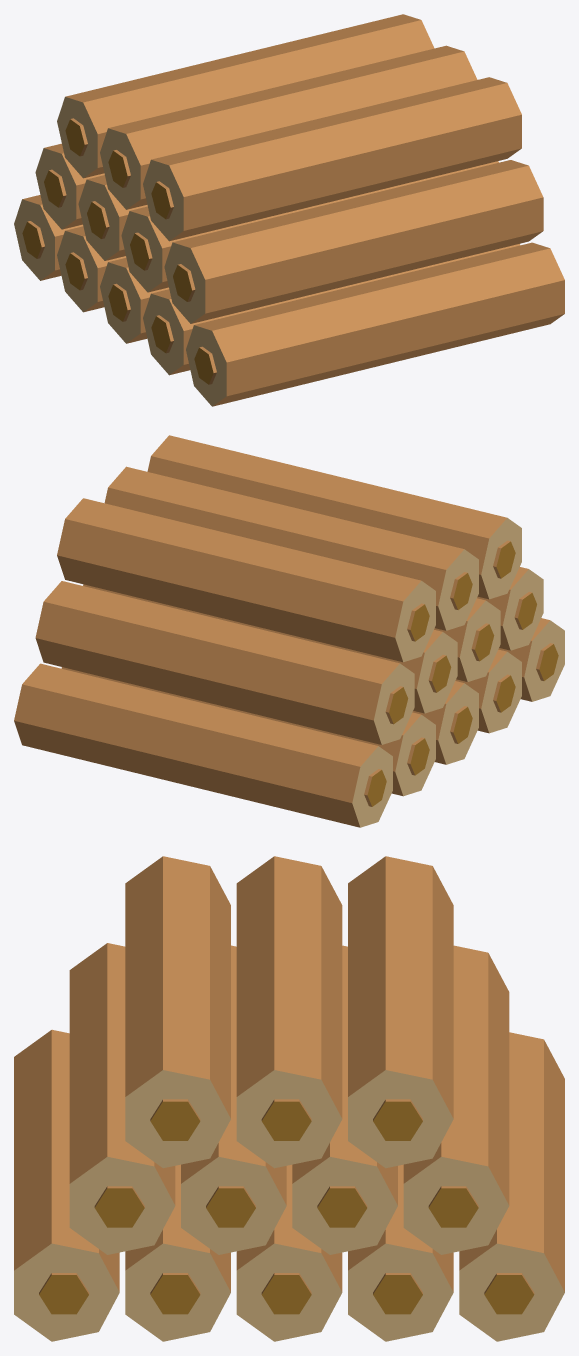
The model's file is woodcutter_l2_fill.fbx.
3 views of the same model, one above another, from view 1: azimuth 30°, elevation 25°; view 2: azimuth 150°, elevation 25°; view 3: azimuth 270°, elevation 25° (orthographic). The views are drawn at different scales.
Parts seen in each view (by area): view 1: Fill_logs_3, Fill_logs_1, Fill_logs_2; view 2: Fill_logs_3, Fill_logs_1, Fill_logs_2; view 3: Fill_logs_3, Fill_logs_1, Fill_logs_2.
Part boxes in pixels (bbox=[...]): Fill_logs_3: bbox=[57, 14, 521, 241]; Fill_logs_1: bbox=[14, 195, 564, 406]; Fill_logs_2: bbox=[35, 143, 543, 323]; Fill_logs_3: bbox=[57, 435, 521, 662]; Fill_logs_1: bbox=[14, 618, 564, 827]; Fill_logs_2: bbox=[35, 567, 543, 744]; Fill_logs_3: bbox=[125, 856, 453, 1168]; Fill_logs_1: bbox=[14, 1029, 564, 1341]; Fill_logs_2: bbox=[69, 943, 509, 1254].
Size of the model in its own units: 0.2448 by 0.1423 by 0.2614.
